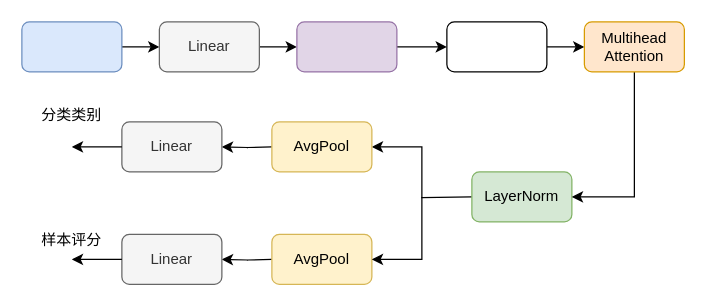
The diagram is 706 pixels wide and 306 high, and some of its shapes have lost their labels. The shapes that lost their labels are listed below. From the top down, each one's centre as x and y in pixels, then its label:
At (71,46): "LSTM".
At (346,46): "ReLu".
At (496,46): "Dropout".
